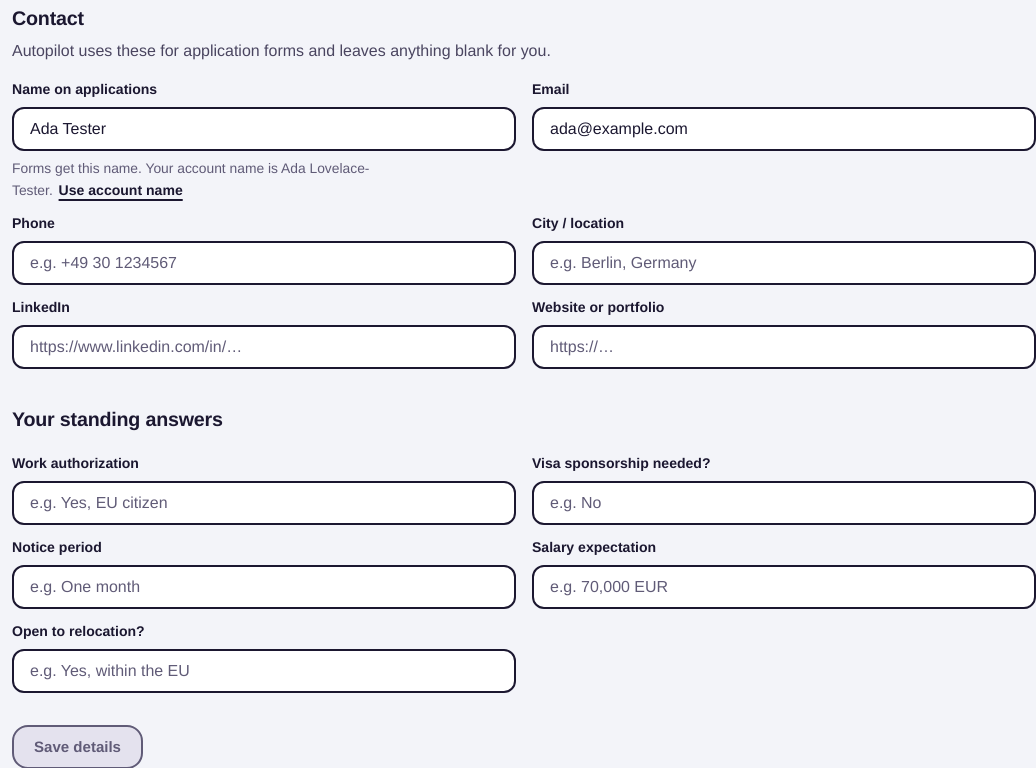
Test case: Application details card › says which name forms get when it differs from the account name, and offers the account name without saving it
This screenshot has width=1036, height=768.
Expected: the field labelled "Name on applications" holds "Ada Tester", [30,108,498,148]
Expected: the text "Your account name is Ada Lovelace-Tester" is shown, [12,160,369,201]
Click the button "Use account name".
click(121, 190)  # box [57,178,185,201]
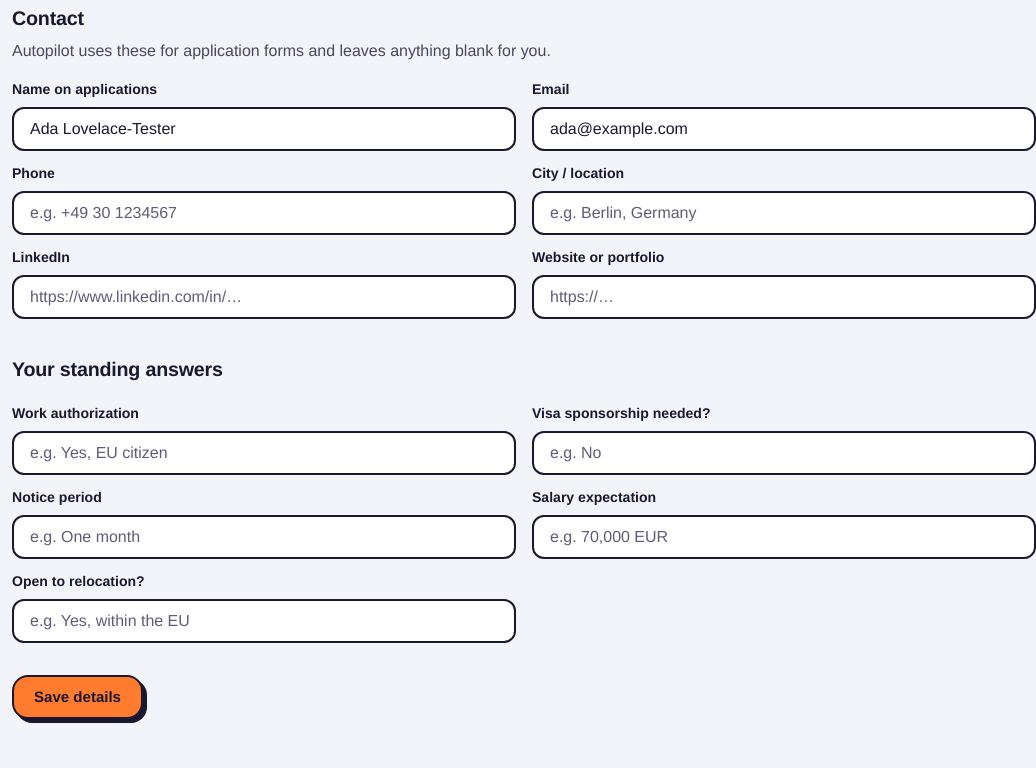
Expected: the field labelled "Name on applications" holds "Ada Lovelace-Tester", [30,108,498,148]
Expected: the button "Save details" is enabled, [12,674,143,718]
Expected: the button "Use account name" is gone
